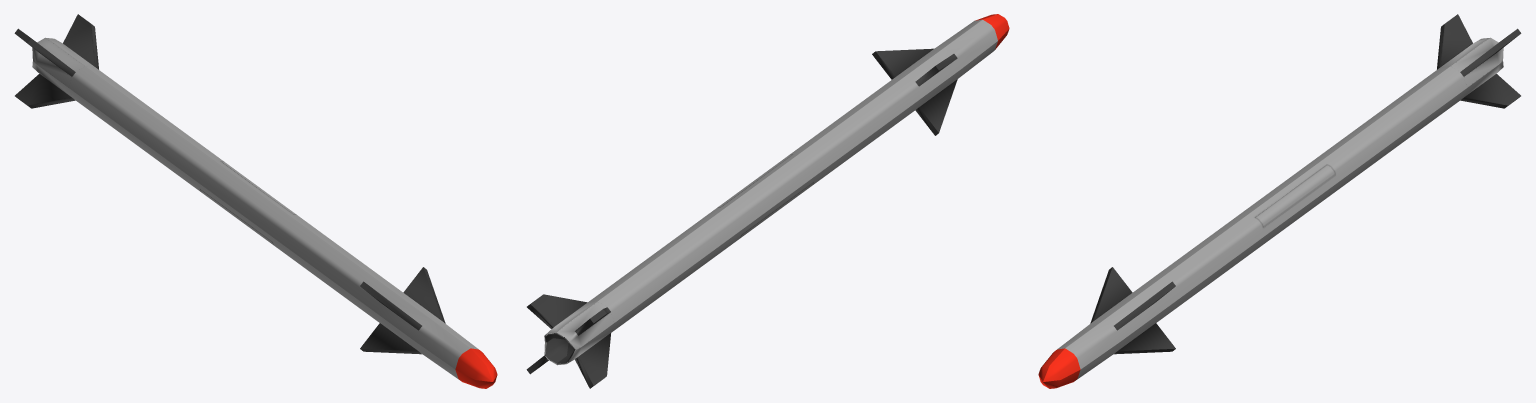
The model's file is AIM_9_2.fbx.
3 views of the same model, side by side, from view 1: azimuth 30°, elevation 25°; view 2: azimuth 150°, elevation 25°; view 3: azimuth 330°, elevation 25° (orthographic).
Visible parts, largest first — view 1: pCylinder1; view 2: pCylinder1; view 3: pCylinder1.
Part boxes in pixels (<box>): pCylinder1: <box>14,14,497,388</box>; pCylinder1: <box>526,14,1009,388</box>; pCylinder1: <box>1038,14,1521,388</box>.
Bounding box in the file's own units: 0.0514 × 0.0514 × 0.5932.
1 material, 1 textured.
